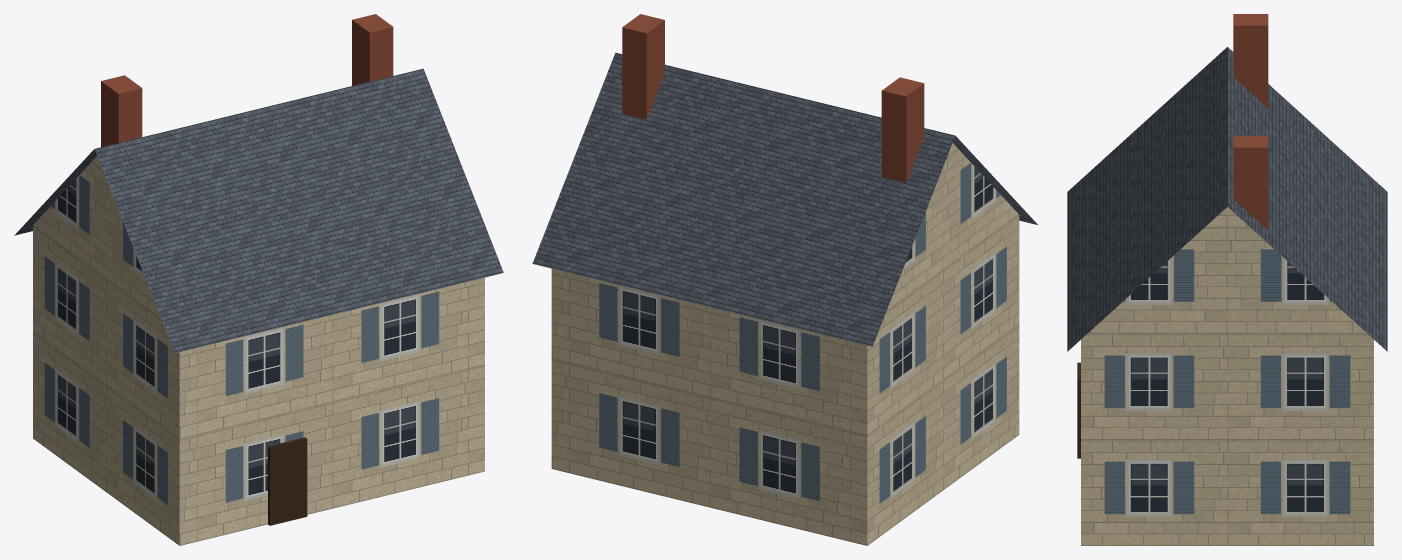
The model's file is casa_pedra.glb.
3 renders of one model, left to right at view 1: azimuth 30°, elevation 25°; view 2: azimuth 150°, elevation 25°; view 3: azimuth 270°, elevation 25°, orthographic. The views are drawn at different scales.
Visible parts, largest first — view 1: Casa.001; view 2: Casa.001; view 3: Casa.001.
Boxes of the visible parts, x1=… form: Casa.001: x1=14, y1=14, x2=503, y2=545; Casa.001: x1=532, y1=14, x2=1037, y2=545; Casa.001: x1=1067, y1=14, x2=1387, y2=545.
Size of the model in its own units: 9.7 by 11.05 by 8.2.
Materials: 4 (2 with a texture image).
